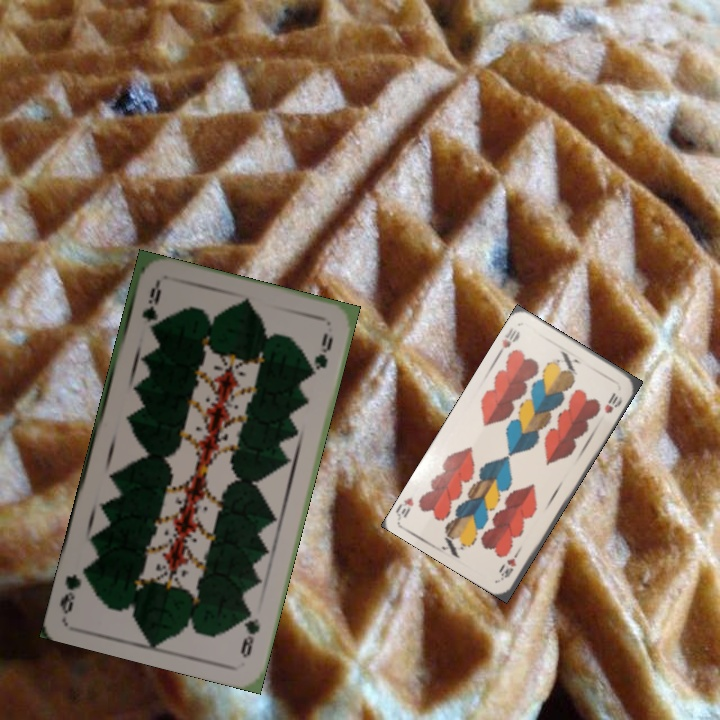G9: (236, 603, 263, 660), (137, 279, 164, 335)
H10: (493, 323, 522, 358), (497, 544, 523, 582)
